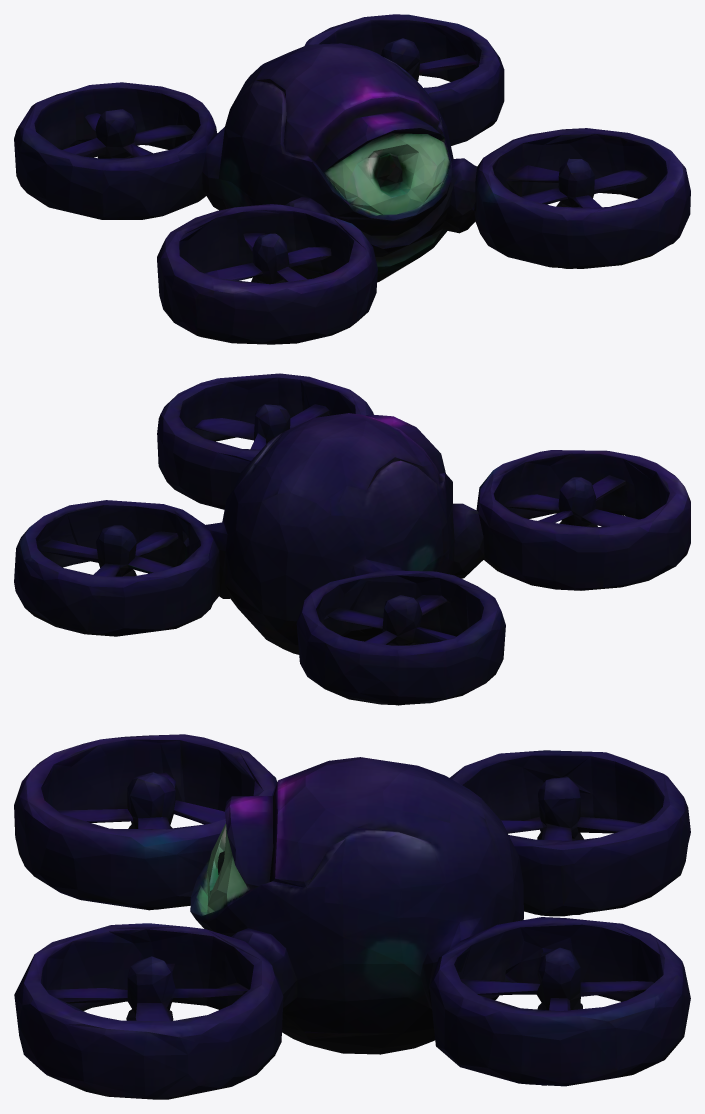
Rendered from drone.glb.
3 renders of one model, top to bottom at view 1: azimuth 30°, elevation 25°; view 2: azimuth 150°, elevation 25°; view 3: azimuth 270°, elevation 25°, orthographic. The views are drawn at different scales.
Parts seen in each view (by area): view 1: geometry_0; view 2: geometry_0; view 3: geometry_0.
Boxes of the visible parts, x1,y1,x2,y2 form: geometry_0: (14,14,690,344); geometry_0: (14,373,690,705); geometry_0: (14,734,690,1099).
Size of the model in its own units: 0.9997 by 0.4114 by 0.9334.
1 material, 1 textured.
